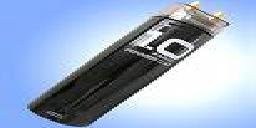Electrolytic-Capacitor: (27, 3, 241, 128)
